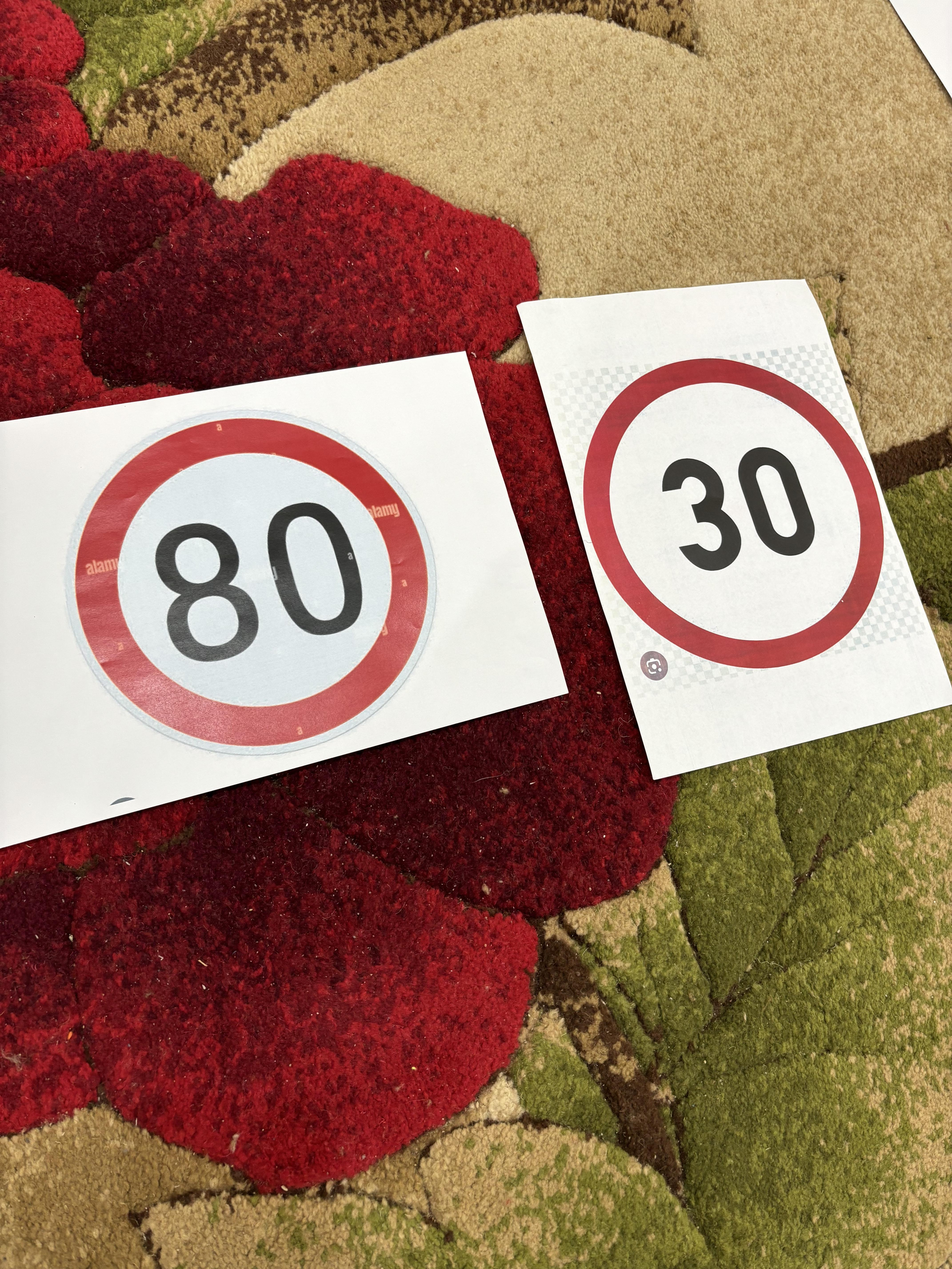30-speed: (577, 351, 896, 678)
80-Speed: (63, 425, 434, 751)
